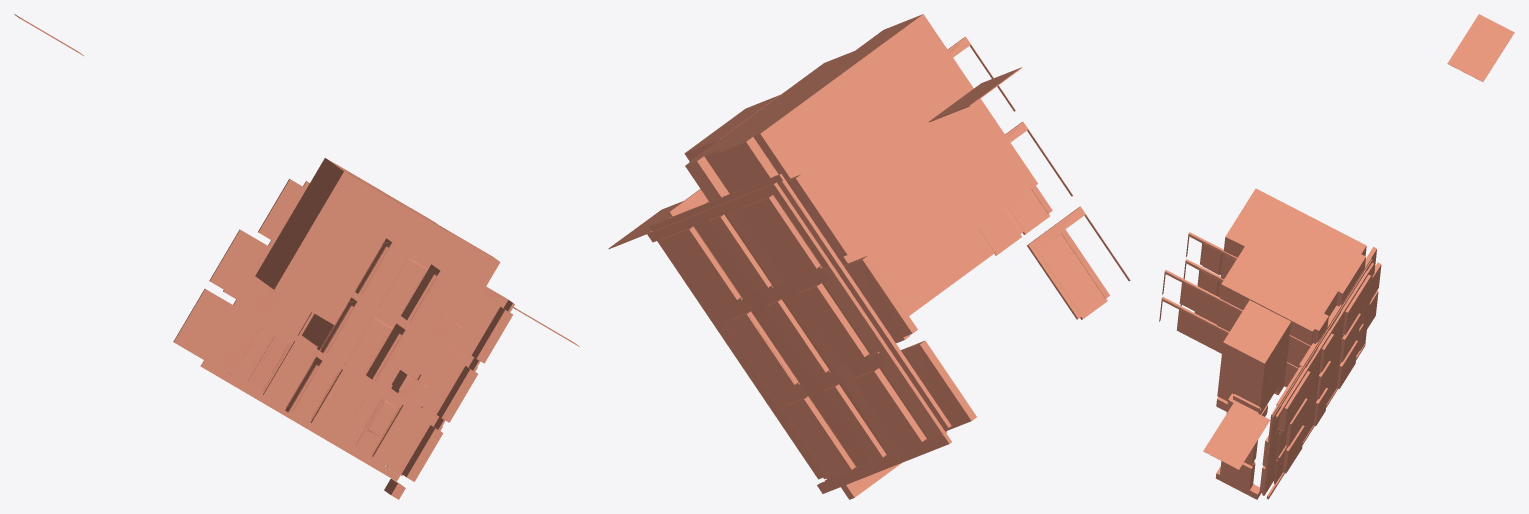
The picture shows the model from 3 angles, left to right: view 1: azimuth 30°, elevation 25°; view 2: azimuth 150°, elevation 25°; view 3: azimuth 270°, elevation 25°; orthographic projection. The views are drawn at different scales.
Visible parts, largest first — view 1: mesh; view 2: mesh; view 3: mesh.
Part boxes in pixels (left/top/right/bottom): mesh: left=14, top=14, right=579, bottom=499; mesh: left=608, top=14, right=1130, bottom=499; mesh: left=1159, top=14, right=1514, bottom=499.
Bounding box in the file's own units: 20.91 × 21.28 × 17.9.
